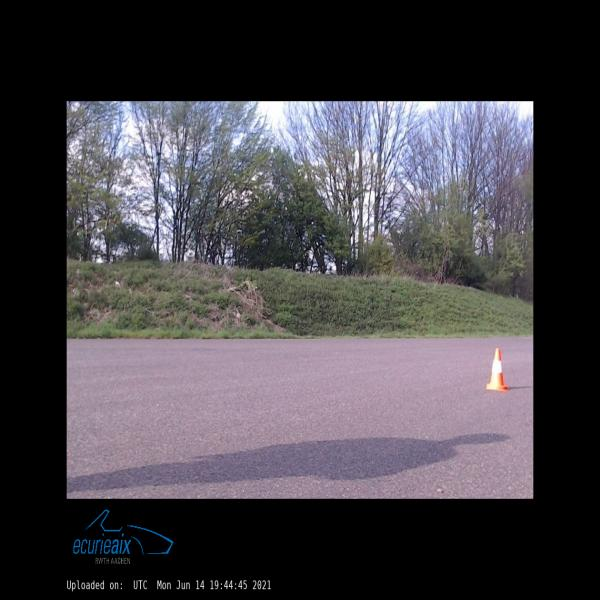orange_cone: (486, 349, 508, 391)
